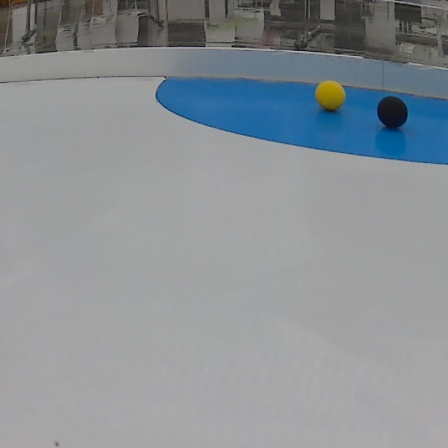black: (378, 97, 410, 127)
blue_base: (146, 76, 448, 170)
yellow: (316, 80, 346, 113)
